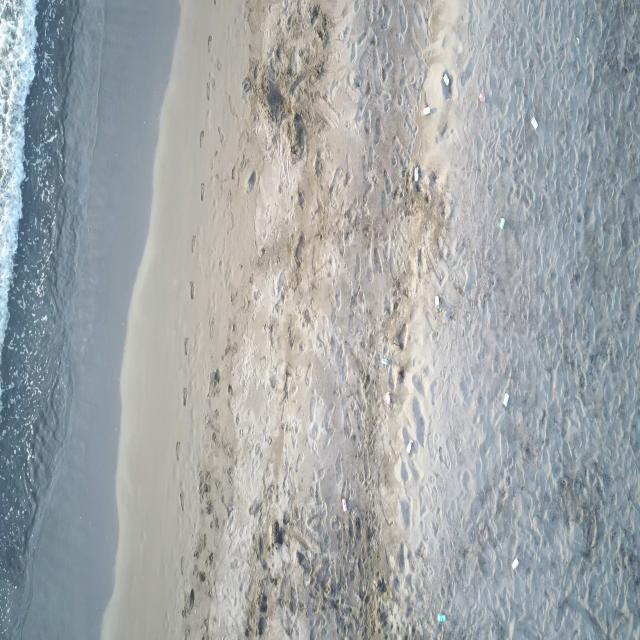tin-and-aluminum-cans: (502, 392, 510, 408), (406, 438, 413, 456), (511, 556, 519, 571), (385, 390, 392, 406), (531, 116, 539, 130), (443, 73, 450, 87), (498, 217, 506, 229), (434, 294, 440, 310), (342, 498, 348, 513), (438, 613, 446, 624), (479, 92, 486, 104), (423, 106, 431, 116), (414, 166, 419, 182), (381, 357, 388, 366)
